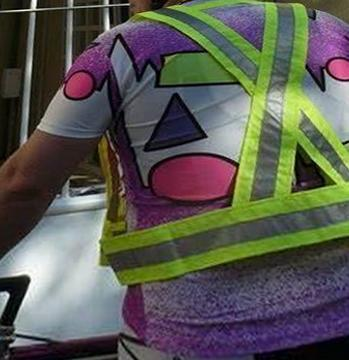Vest: (108, 6, 349, 247)
